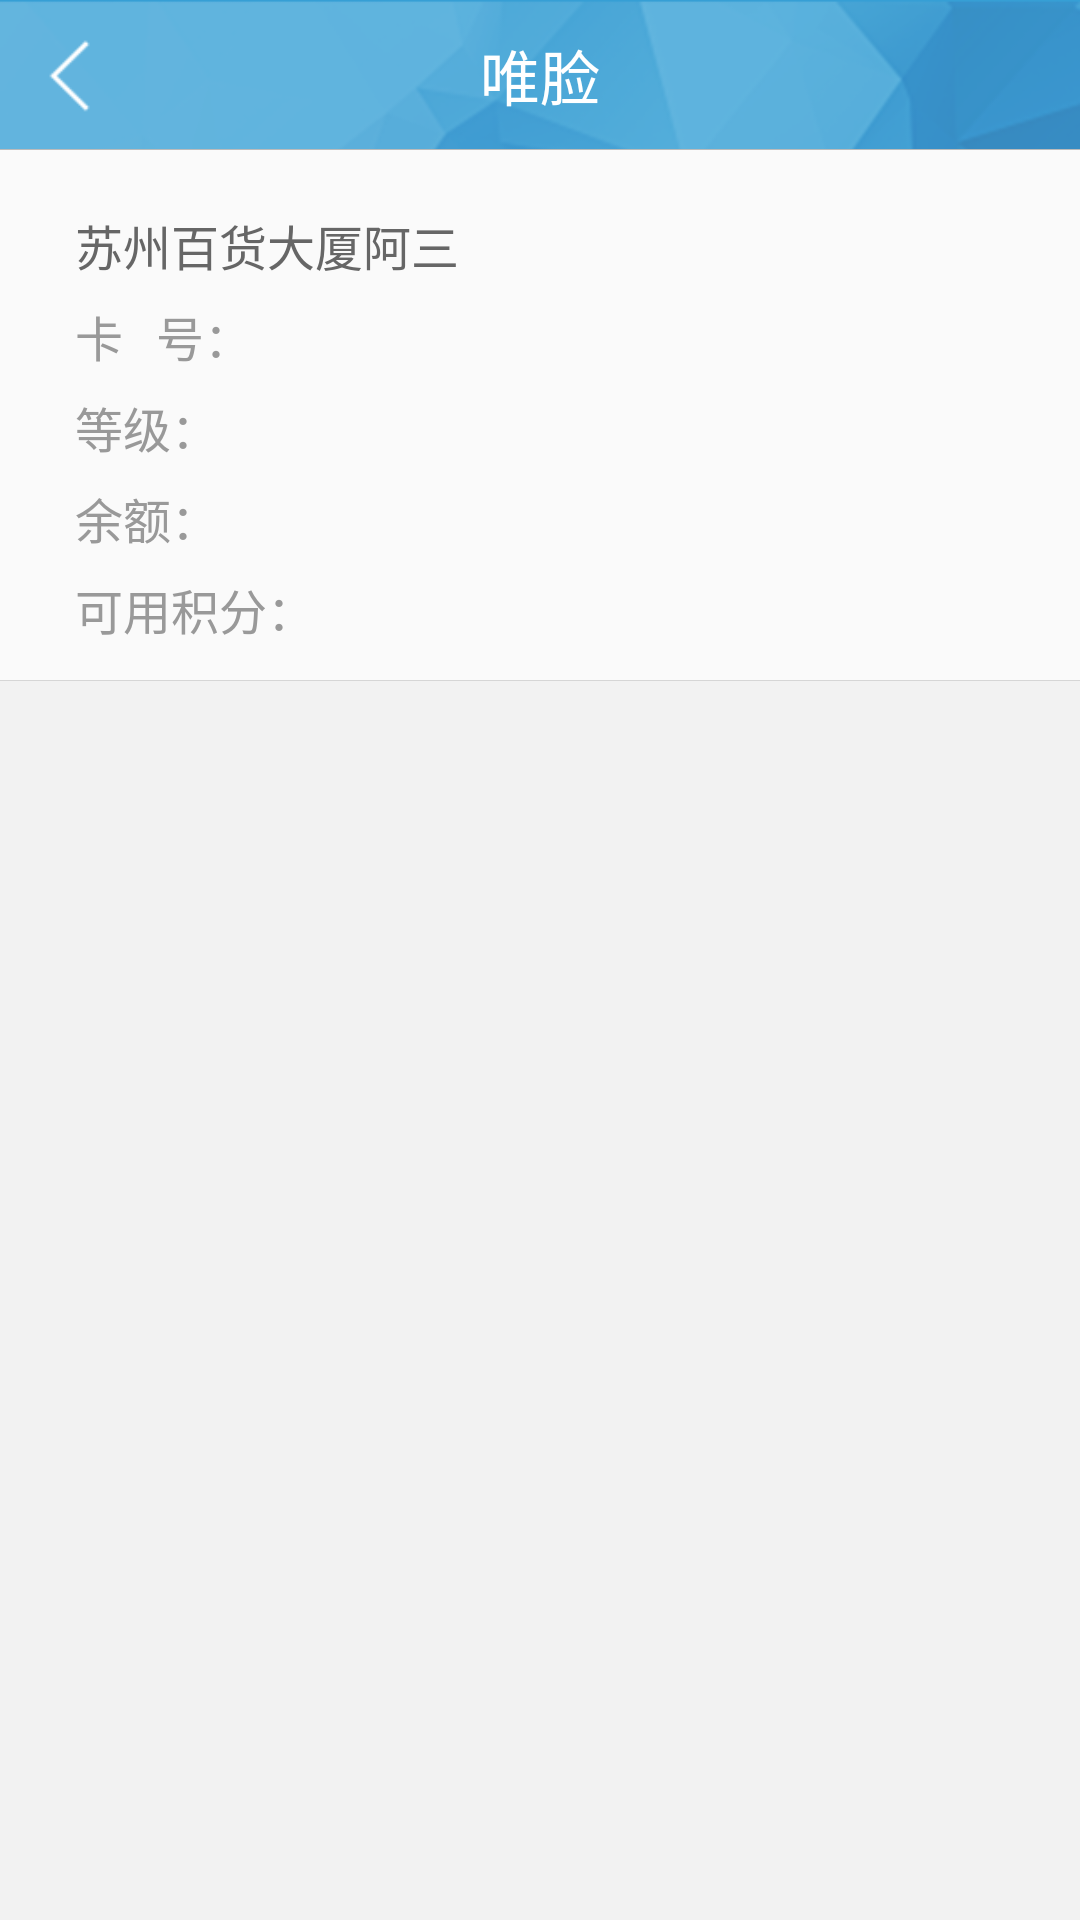

Locate icon controls on the screen. Image size 1080px x 1920px, boxes as (x1=x1, y1=y1, x2=x2, y2=y2).
back: (x1=50, y1=41, x2=89, y2=111)
